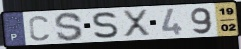4: (160, 7, 184, 37)
9: (189, 6, 214, 35)
C: (27, 15, 50, 42)
S: (53, 11, 85, 42), (91, 11, 120, 40)
X: (121, 9, 152, 38)
